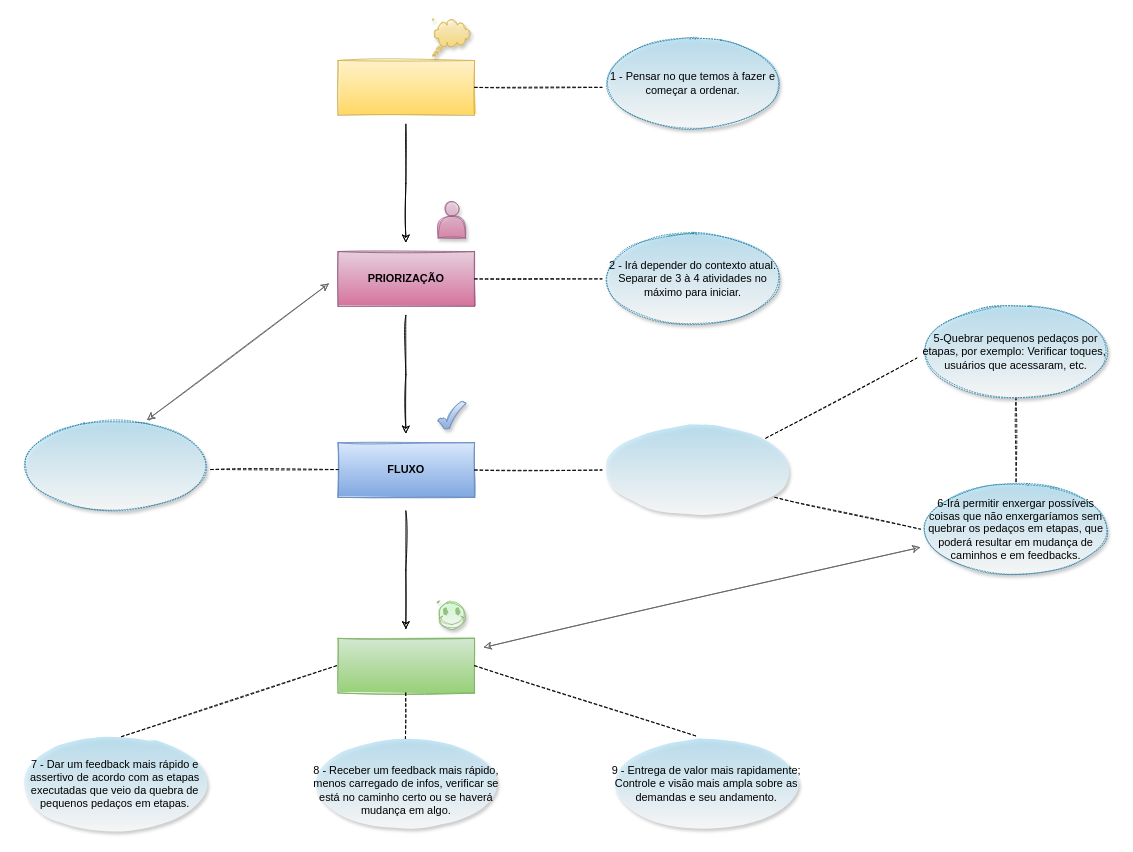
The diagram is 1133 pixels wide and 852 high, and some of its shapes have lost their labels. Each missing label, with the centre of its shape:
"3 - Qual a dor precisamos resolver ?" goes at [115,466].
"4-Dividir em pequenos pedaços com valor e que possam evoluir mais rapidamente." goes at [698,470].
"FEEDBACK" goes at [406,665].
"IDEIAS" goes at [406,87].
